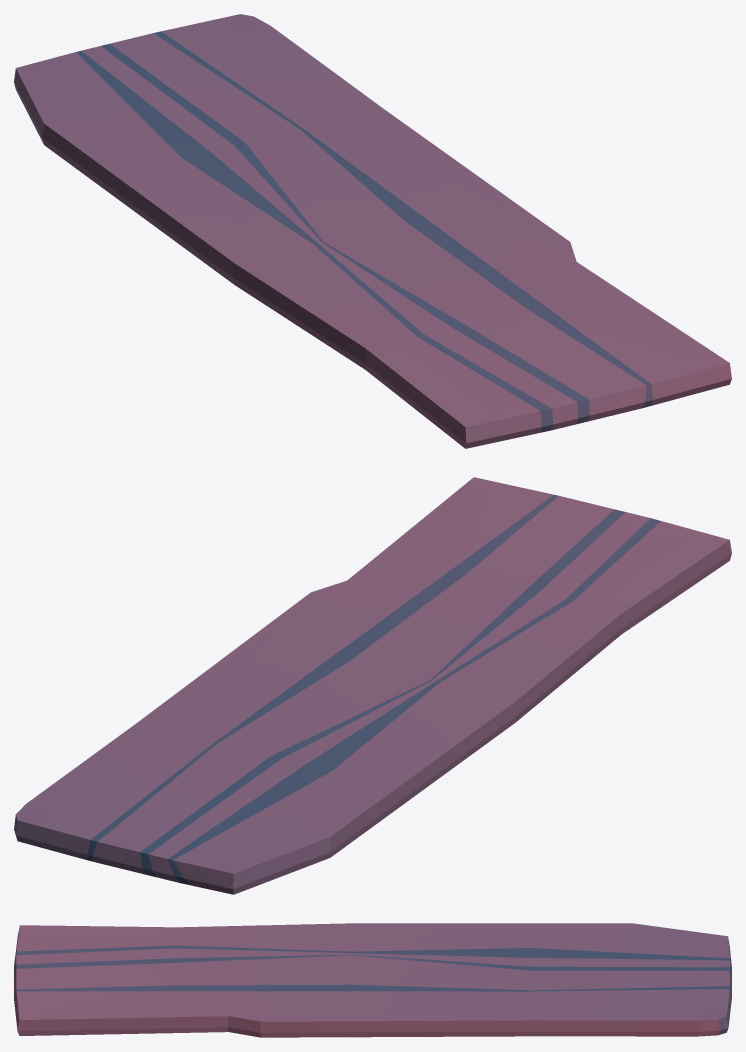
File: Prop_WoodPlank04.fbx
3 views of the same model, one above another, from view 1: azimuth 30°, elevation 25°; view 2: azimuth 150°, elevation 25°; view 3: azimuth 270°, elevation 25° (orthographic). The views are drawn at different scales.
Parts seen in each view (by area): view 1: Cube.464; view 2: Cube.464; view 3: Cube.464.
Boxes of the visible parts, x1,y1,x2,y2 form: Cube.464: [14, 14, 731, 448]; Cube.464: [14, 477, 731, 894]; Cube.464: [14, 923, 731, 1037].
Bounding box in the file's own units: 66.26 × 4.98 × 203.
